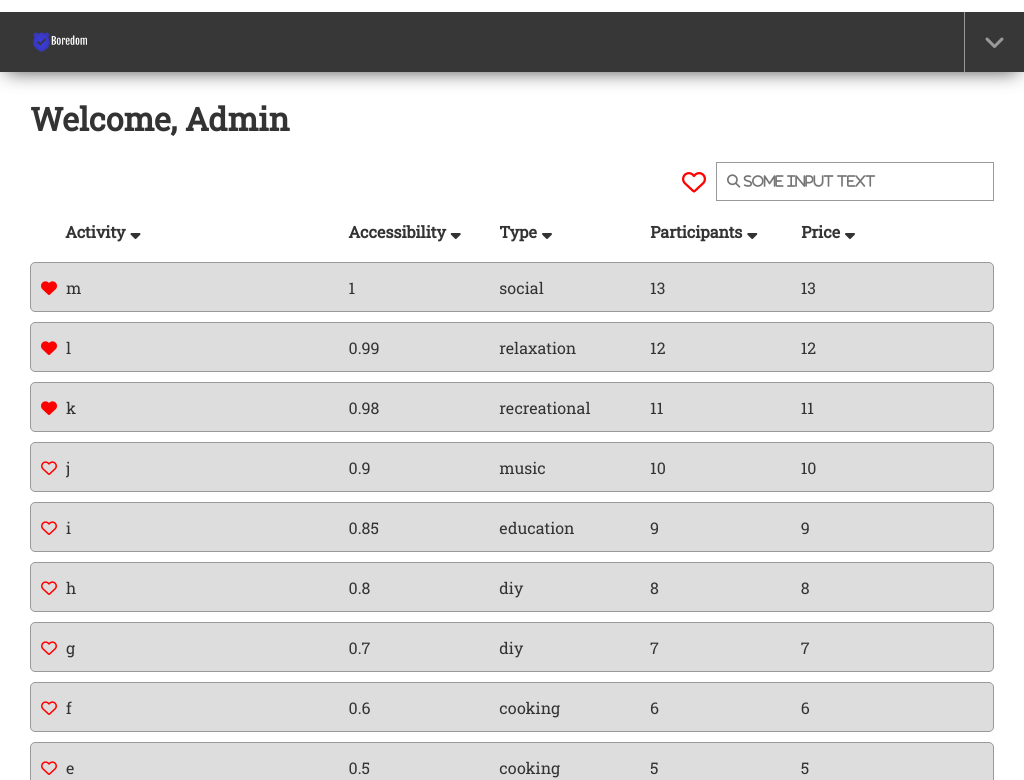
Test: Activities Dashboard Page (Integration) › Ordering › Should order by type when clickin table label
Click the element with test id "order-type" at (526, 231), box [499,221,552,242]
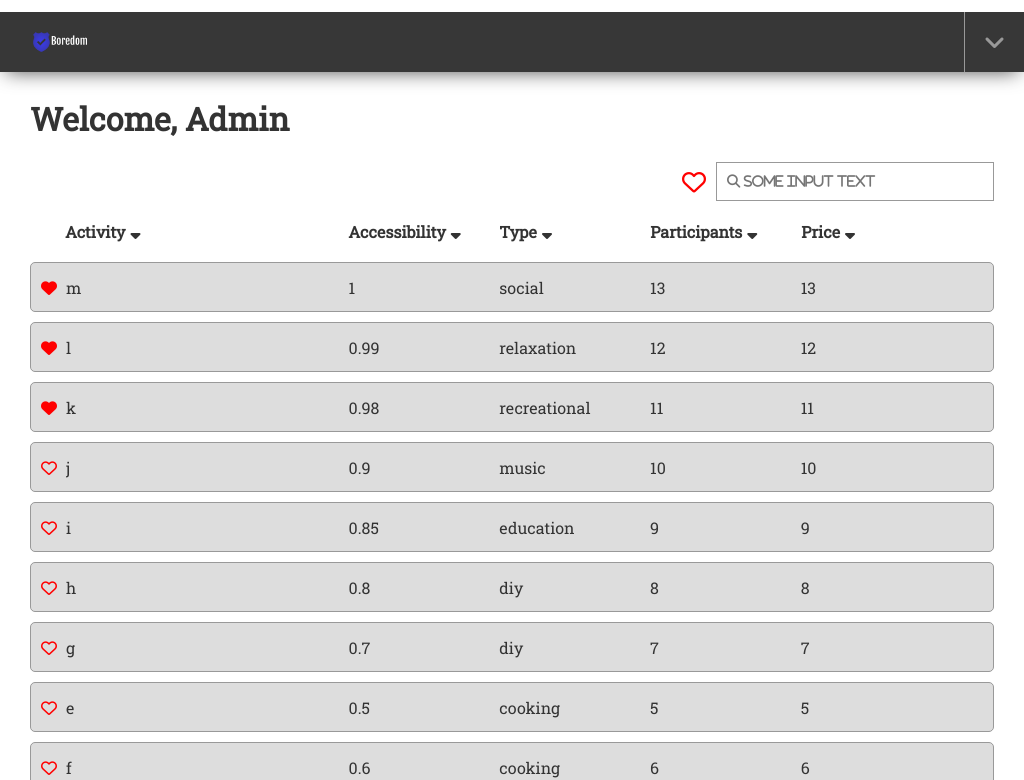
Expected: the element with test id "type" reads "social", [499,277,544,298]
Click the element with test id "order-type" at (526, 231), box [499,221,552,242]
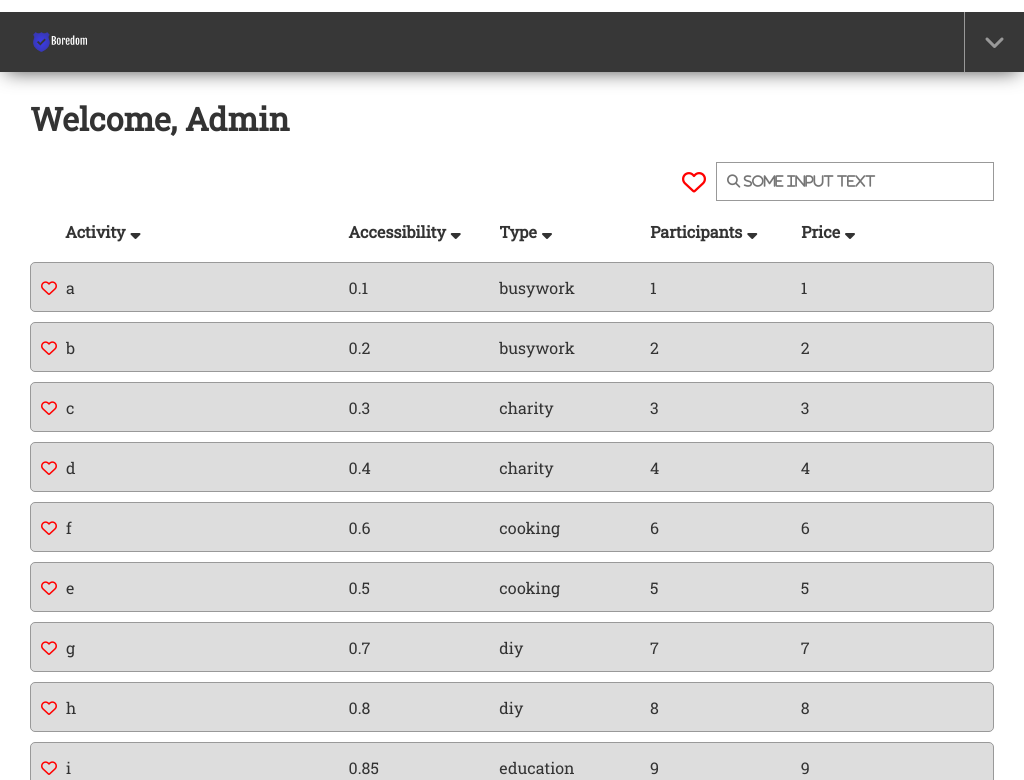
Now the element with test id "type" next to "0.1" reads "busywork", box [499,277,575,298]
